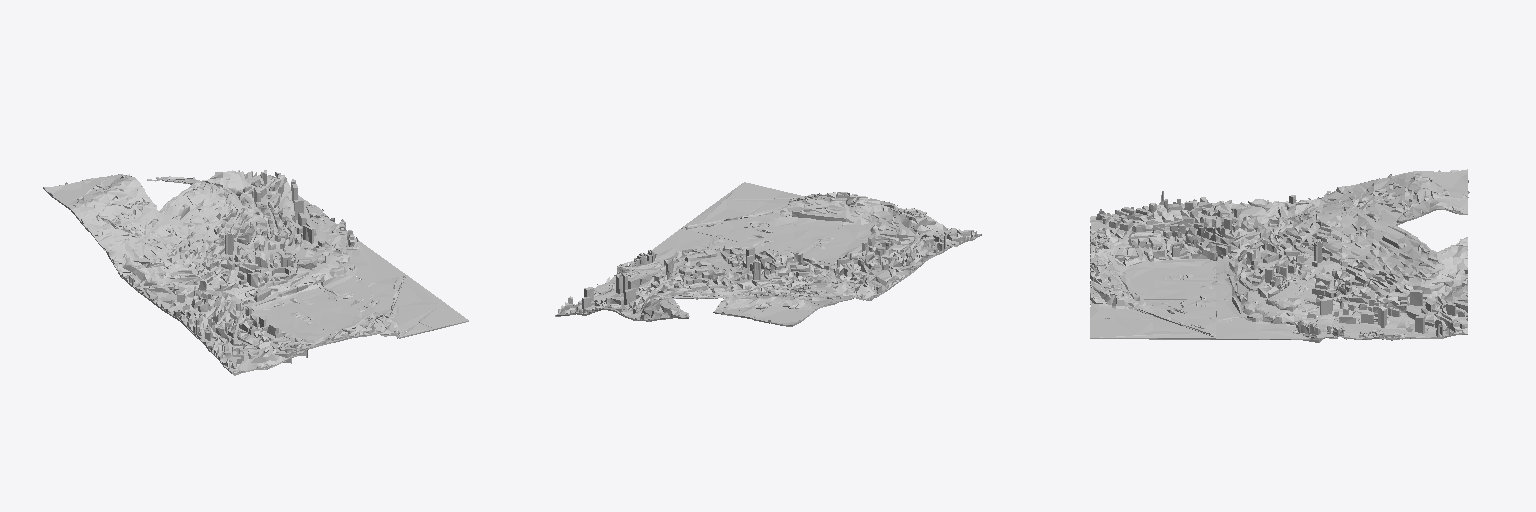
File: monaco_google2.obj
3 renders of one model, left to right at view 1: azimuth 30°, elevation 25°; view 2: azimuth 150°, elevation 25°; view 3: azimuth 270°, elevation 25°, orthographic.
Parts seen in each view (by area): view 1: Google_3D_Tiles; view 2: Google_3D_Tiles; view 3: Google_3D_Tiles.
Boxes of the visible parts, <box> form: Google_3D_Tiles: <box>43,170,468,375</box>; Google_3D_Tiles: <box>555,182,981,326</box>; Google_3D_Tiles: <box>1090,169,1469,342</box>.
Bounding box in the file's own units: 1343 × 328 × 1840.